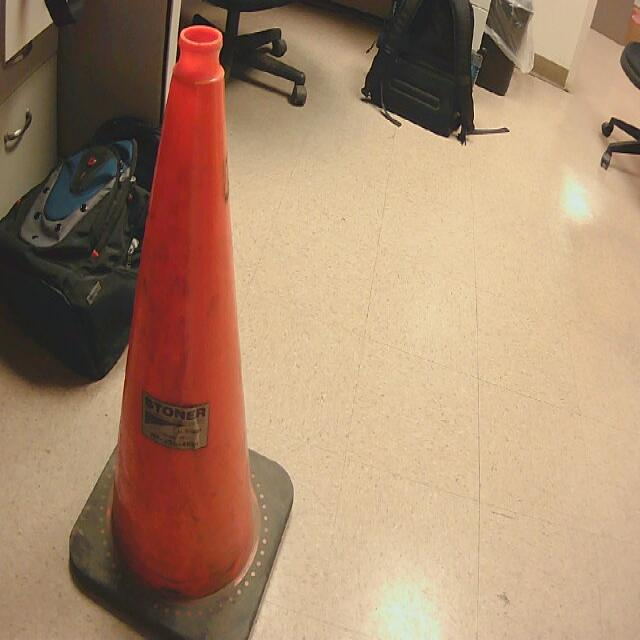traffic cone: (69, 26, 295, 640)
